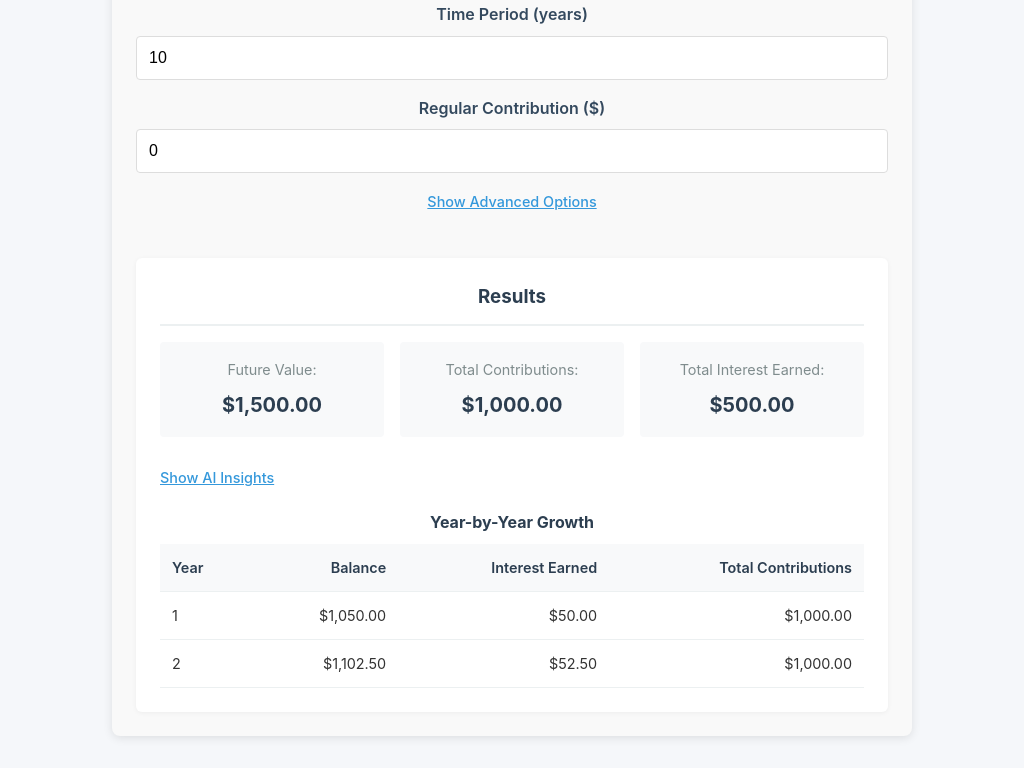
it: CompoundInterestCalculator › displays AI insights and benchmarks correctly
(page scrolled)
# Show AI insights
Click the button with test id "toggle-insights-btn". click: coordinates (217, 478)
box: [160,469,274,486]
(page scrolled)
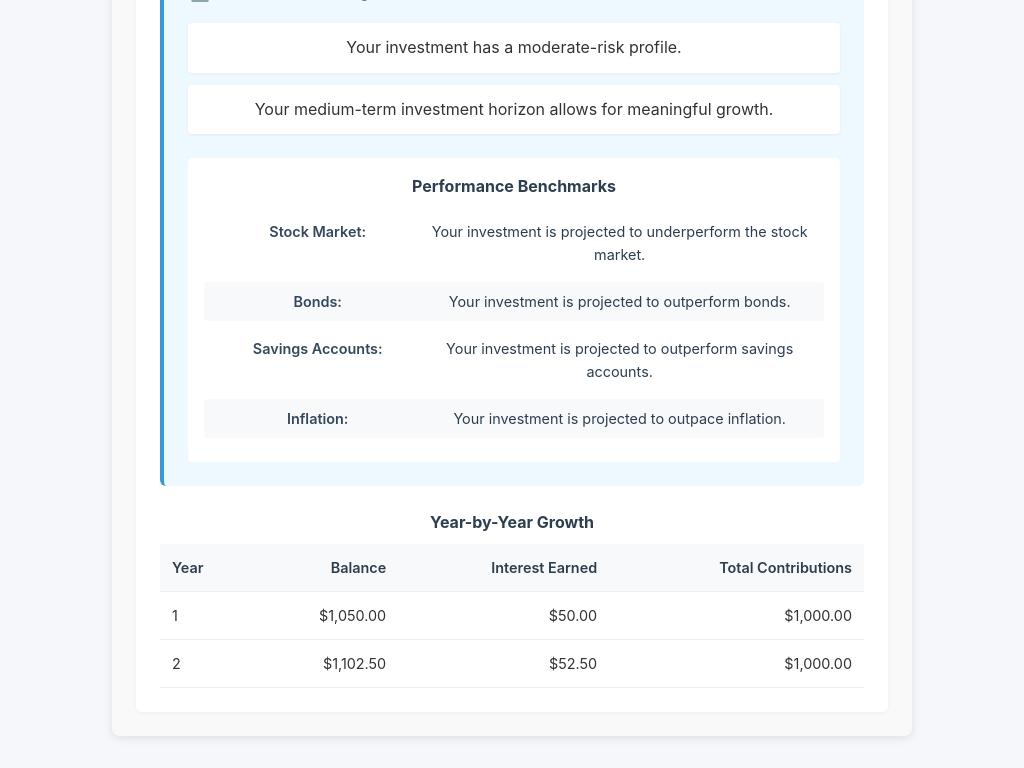
Expected: the list item "Your investment has a moderate-risk profile." is shown, [188,23,840,73]
Expected: the list item "Your medium-term investment horizon allows for meaningful growth." is shown, [188,85,840,134]
Expected: the text "Stock Market:" is shown, [269,223,366,240]
